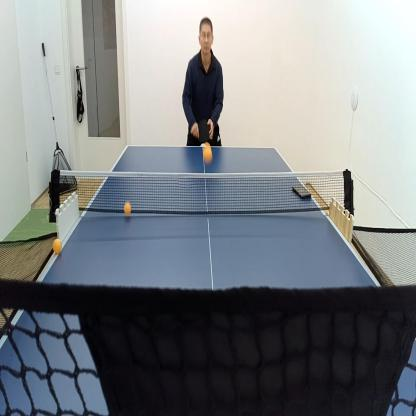Ball: (203, 142, 212, 164), (53, 238, 62, 254), (124, 202, 132, 216)
